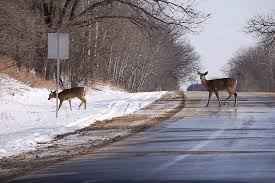deer: (196, 70, 239, 109), (47, 86, 89, 113)
